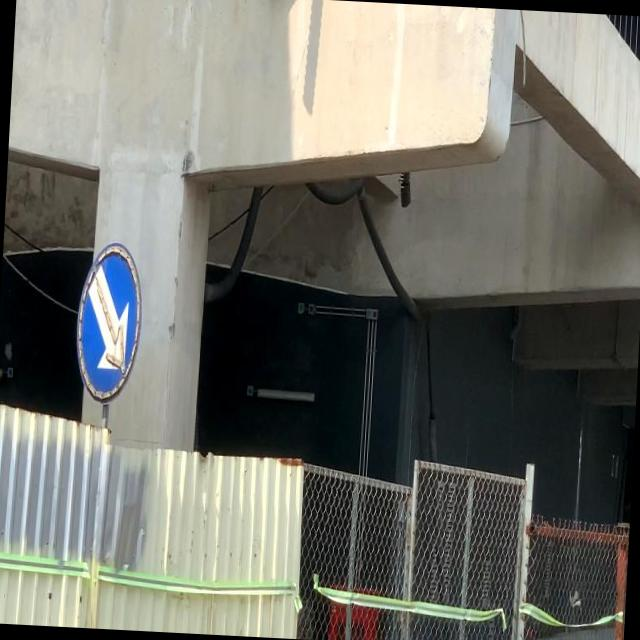R-302a: (73, 243, 147, 402)
